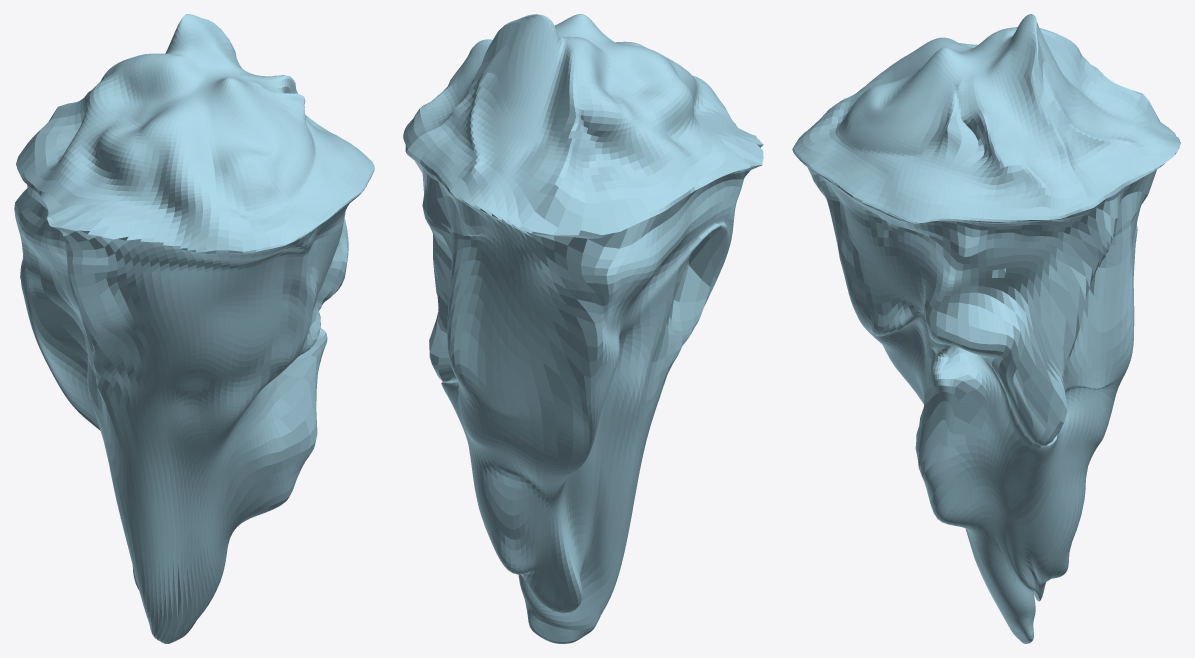
Rendered from frosted_iceberg_final.glb.
The picture shows the model from 3 angles, left to right: view 1: azimuth 30°, elevation 25°; view 2: azimuth 150°, elevation 25°; view 3: azimuth 270°, elevation 25°; orthographic projection. The views are drawn at different scales.
Visible parts, largest first — view 1: iceberg; view 2: iceberg; view 3: iceberg.
Part boxes in pixels (<box>): iceberg: <box>14,14,374,643</box>; iceberg: <box>403,14,763,643</box>; iceberg: <box>792,14,1180,643</box>.
Bounding box in the file's own units: 2.64 × 5.03 × 2.8.
